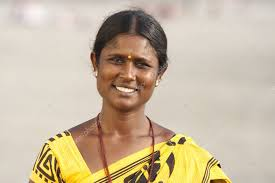person: (90, 8, 168, 116)
